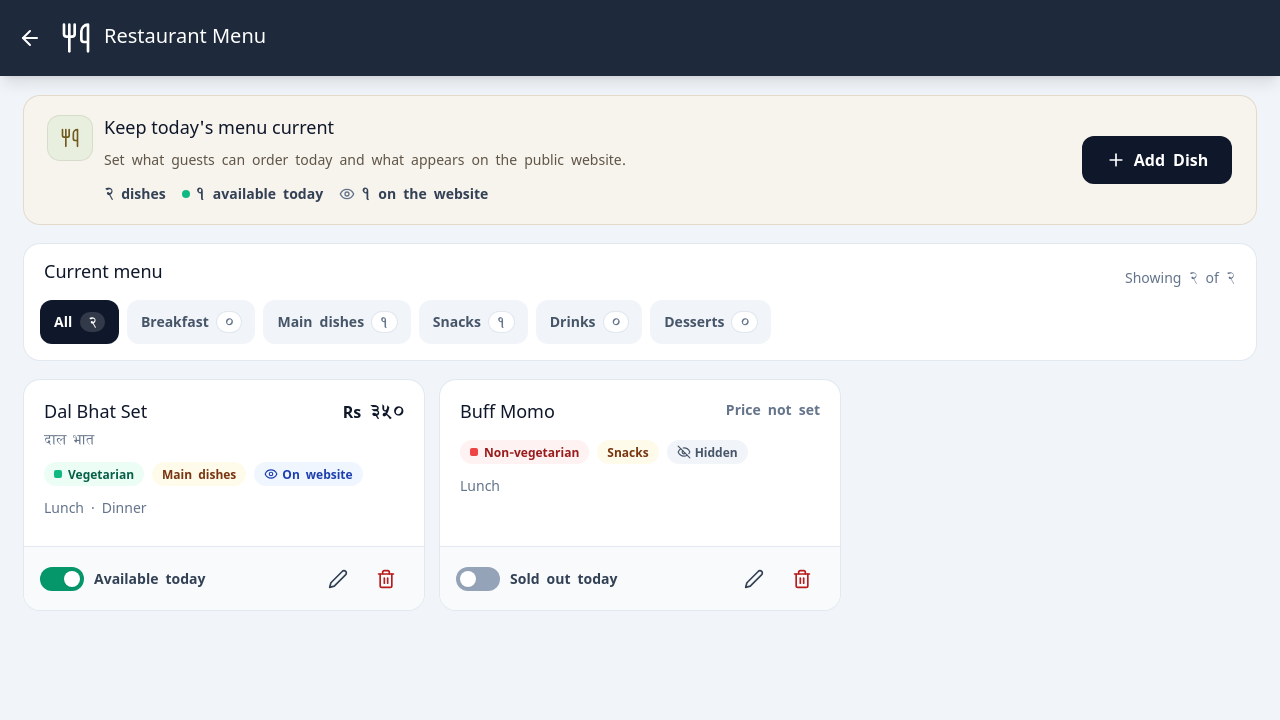
Test: RestaurantMenuPage › focuses the dish sheet, closes it with Escape, and restores focus
This screenshot has width=1280, height=720.
Click the button "Add Dish". click: (1157, 160)
box: [1082,136,1232,184]
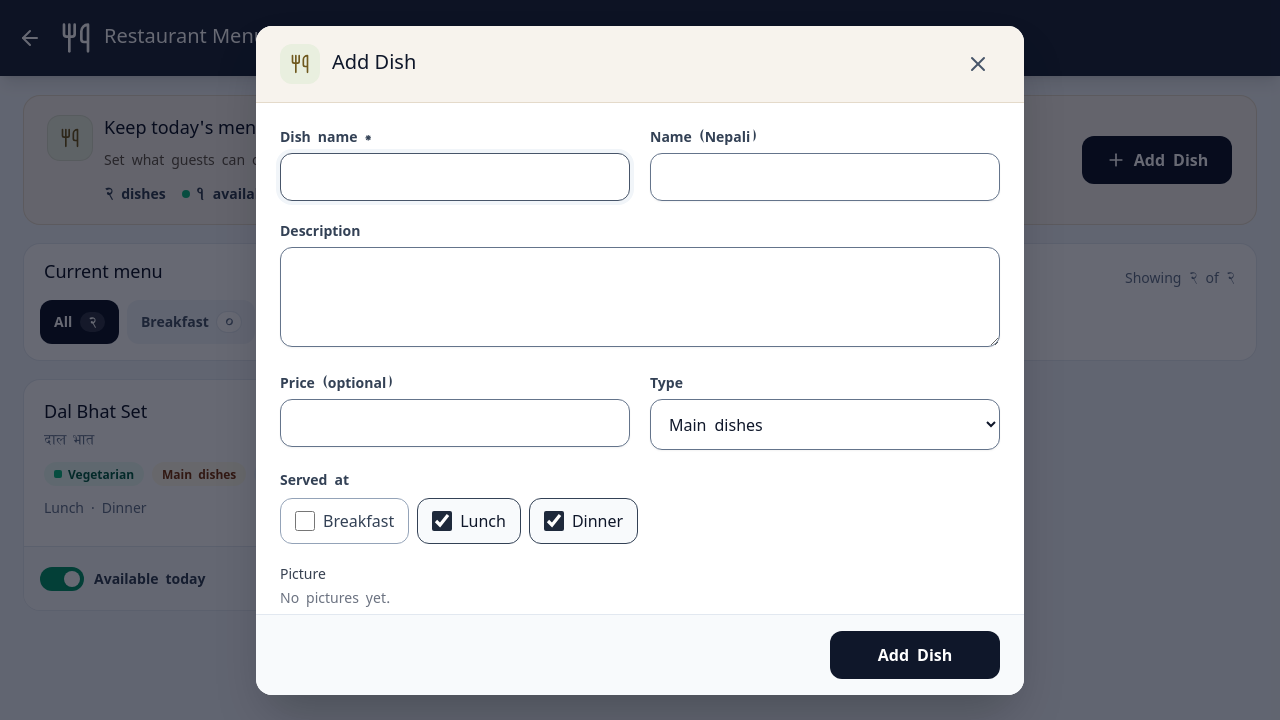
Press Escape
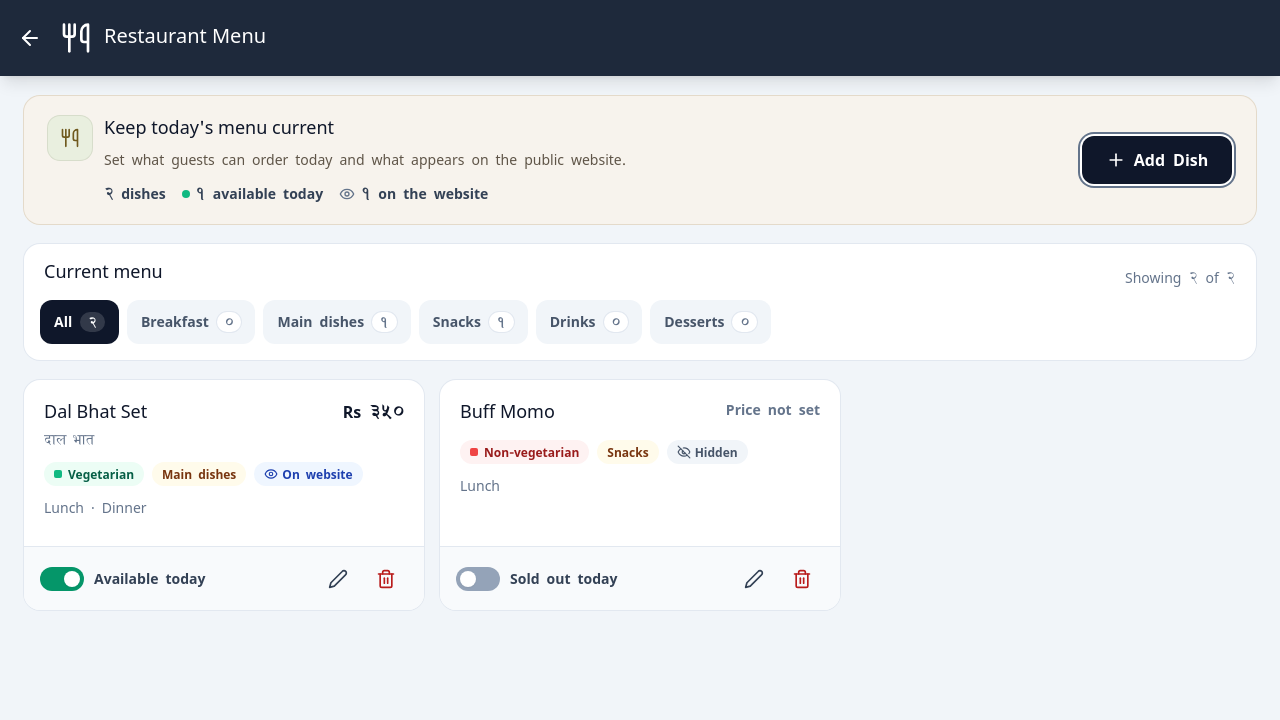
Expected: the dialog is gone
